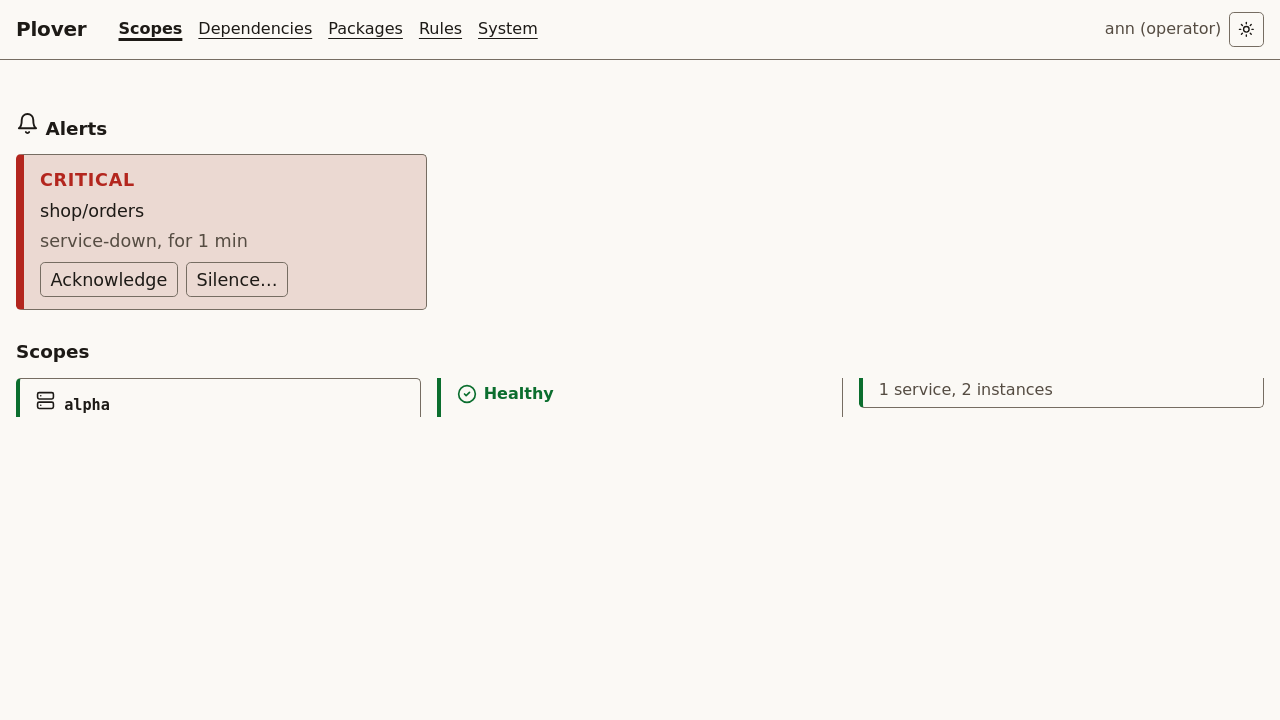
Scenario: changing alerts › lets an operator acknowledge an alert, and says who did
The width and height of the screenshot is (1280, 720).
Step 1. Click the button "Acknowledge" → (109, 280), box [40,262,178,297]
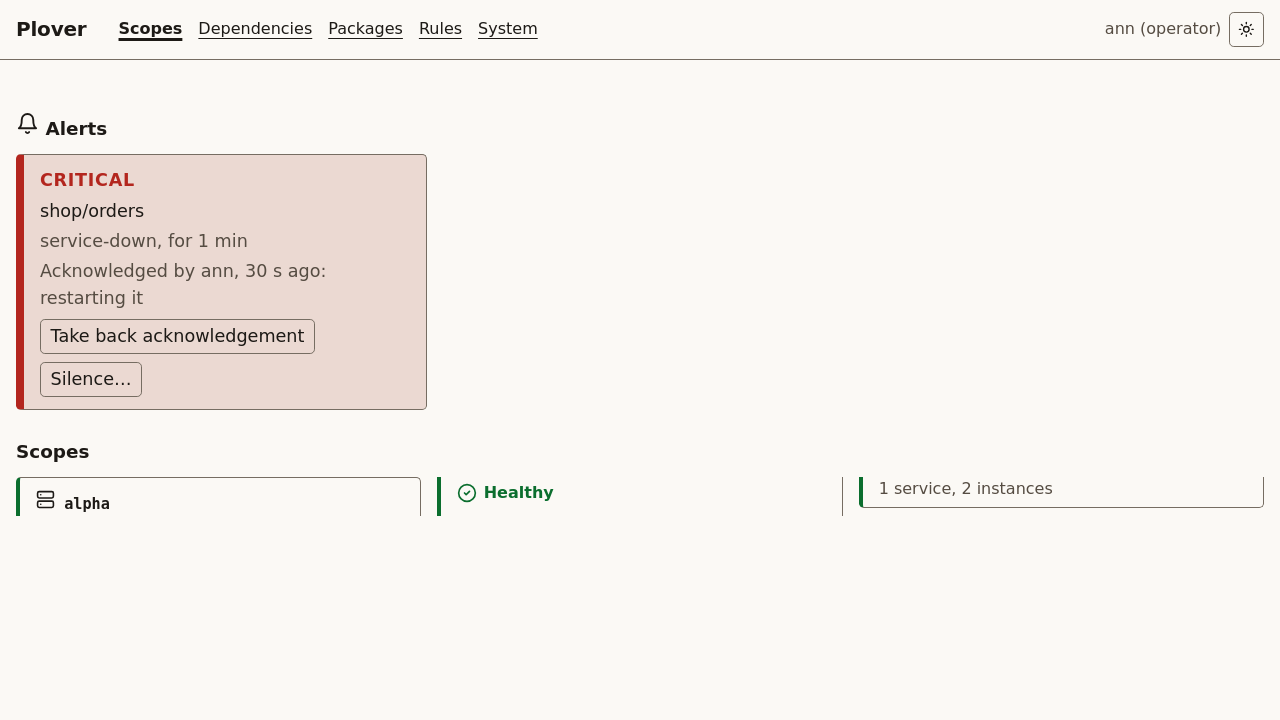
Now the element that starts with "Alerts" shows "Acknowledged by ann, 30 s ago: restarting it"
Now the button "Take back acknowledgement" is shown, box [40,319,315,354]
